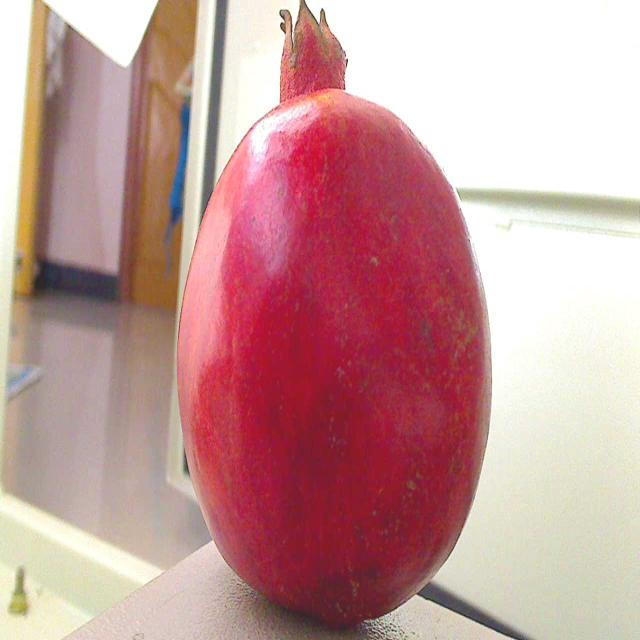pomegranate: (160, 0, 503, 640)
